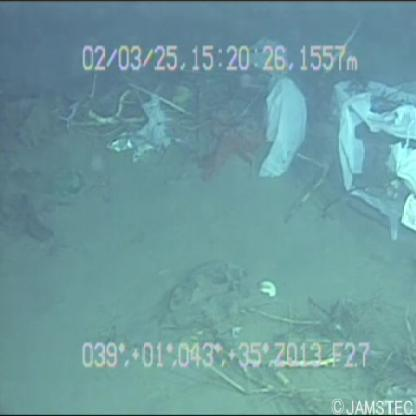Rác: (320, 76, 416, 237), (224, 31, 312, 190)
